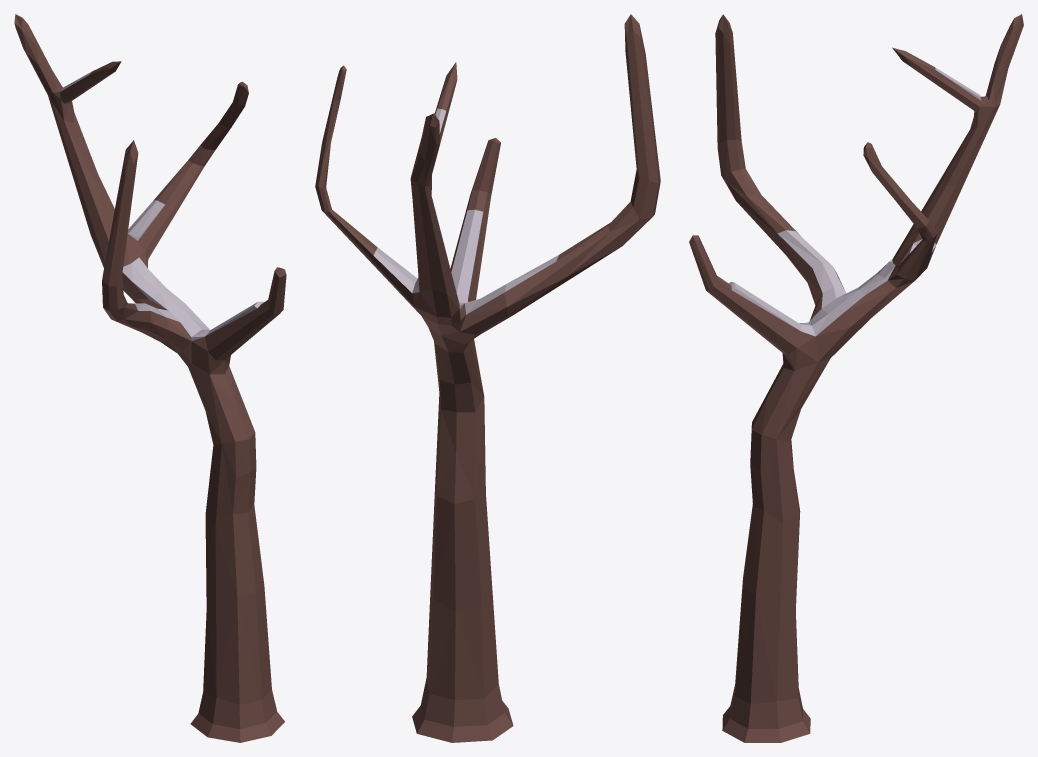
Rendered from CommonTree_Dead_Snow_4.lod1.glb.
3 renders of one model, left to right at view 1: azimuth 30°, elevation 25°; view 2: azimuth 150°, elevation 25°; view 3: azimuth 270°, elevation 25°, orthographic. The views are drawn at different scales.
Parts seen in each view (by area): view 1: CommonTree_Dead_Snow_4; view 2: CommonTree_Dead_Snow_4; view 3: CommonTree_Dead_Snow_4.
Part boxes in pixels (<box>): CommonTree_Dead_Snow_4: <box>14,14,286,742</box>; CommonTree_Dead_Snow_4: <box>315,14,660,742</box>; CommonTree_Dead_Snow_4: <box>689,14,1023,742</box>.
Size of the model in its own units: 0.8189 by 2.37 by 1.08.
